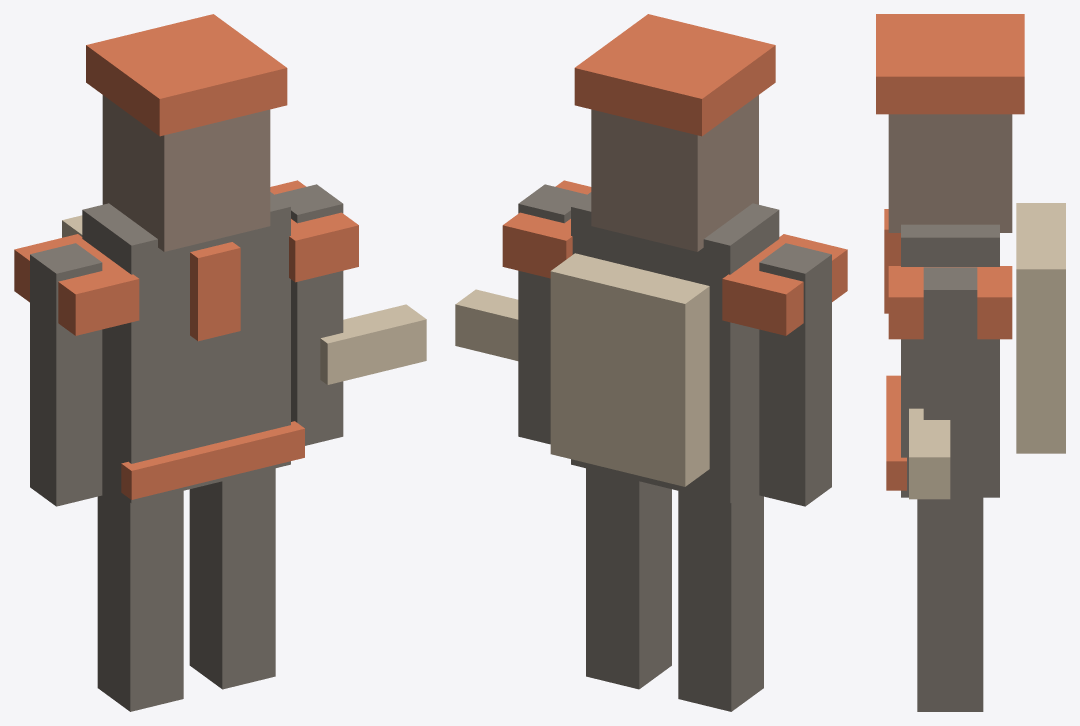
File: 17_elo_glassroot_archivist_near_sonic.glb
3 views of the same model, side by side, from view 1: azimuth 30°, elevation 25°; view 2: azimuth 150°, elevation 25°; view 3: azimuth 270°, elevation 25° (orthographic).
Parts seen in each view (by area): view 1: Elo Glassroot, Archivist near Sonic; view 2: Elo Glassroot, Archivist near Sonic; view 3: Elo Glassroot, Archivist near Sonic.
Part boxes in pixels (<box>): Elo Glassroot, Archivist near Sonic: <box>14,14,426,711</box>; Elo Glassroot, Archivist near Sonic: <box>455,14,847,711</box>; Elo Glassroot, Archivist near Sonic: <box>876,14,1065,711</box>.
Size of the model in its own units: 0.9624 by 1.58 by 0.4319.
